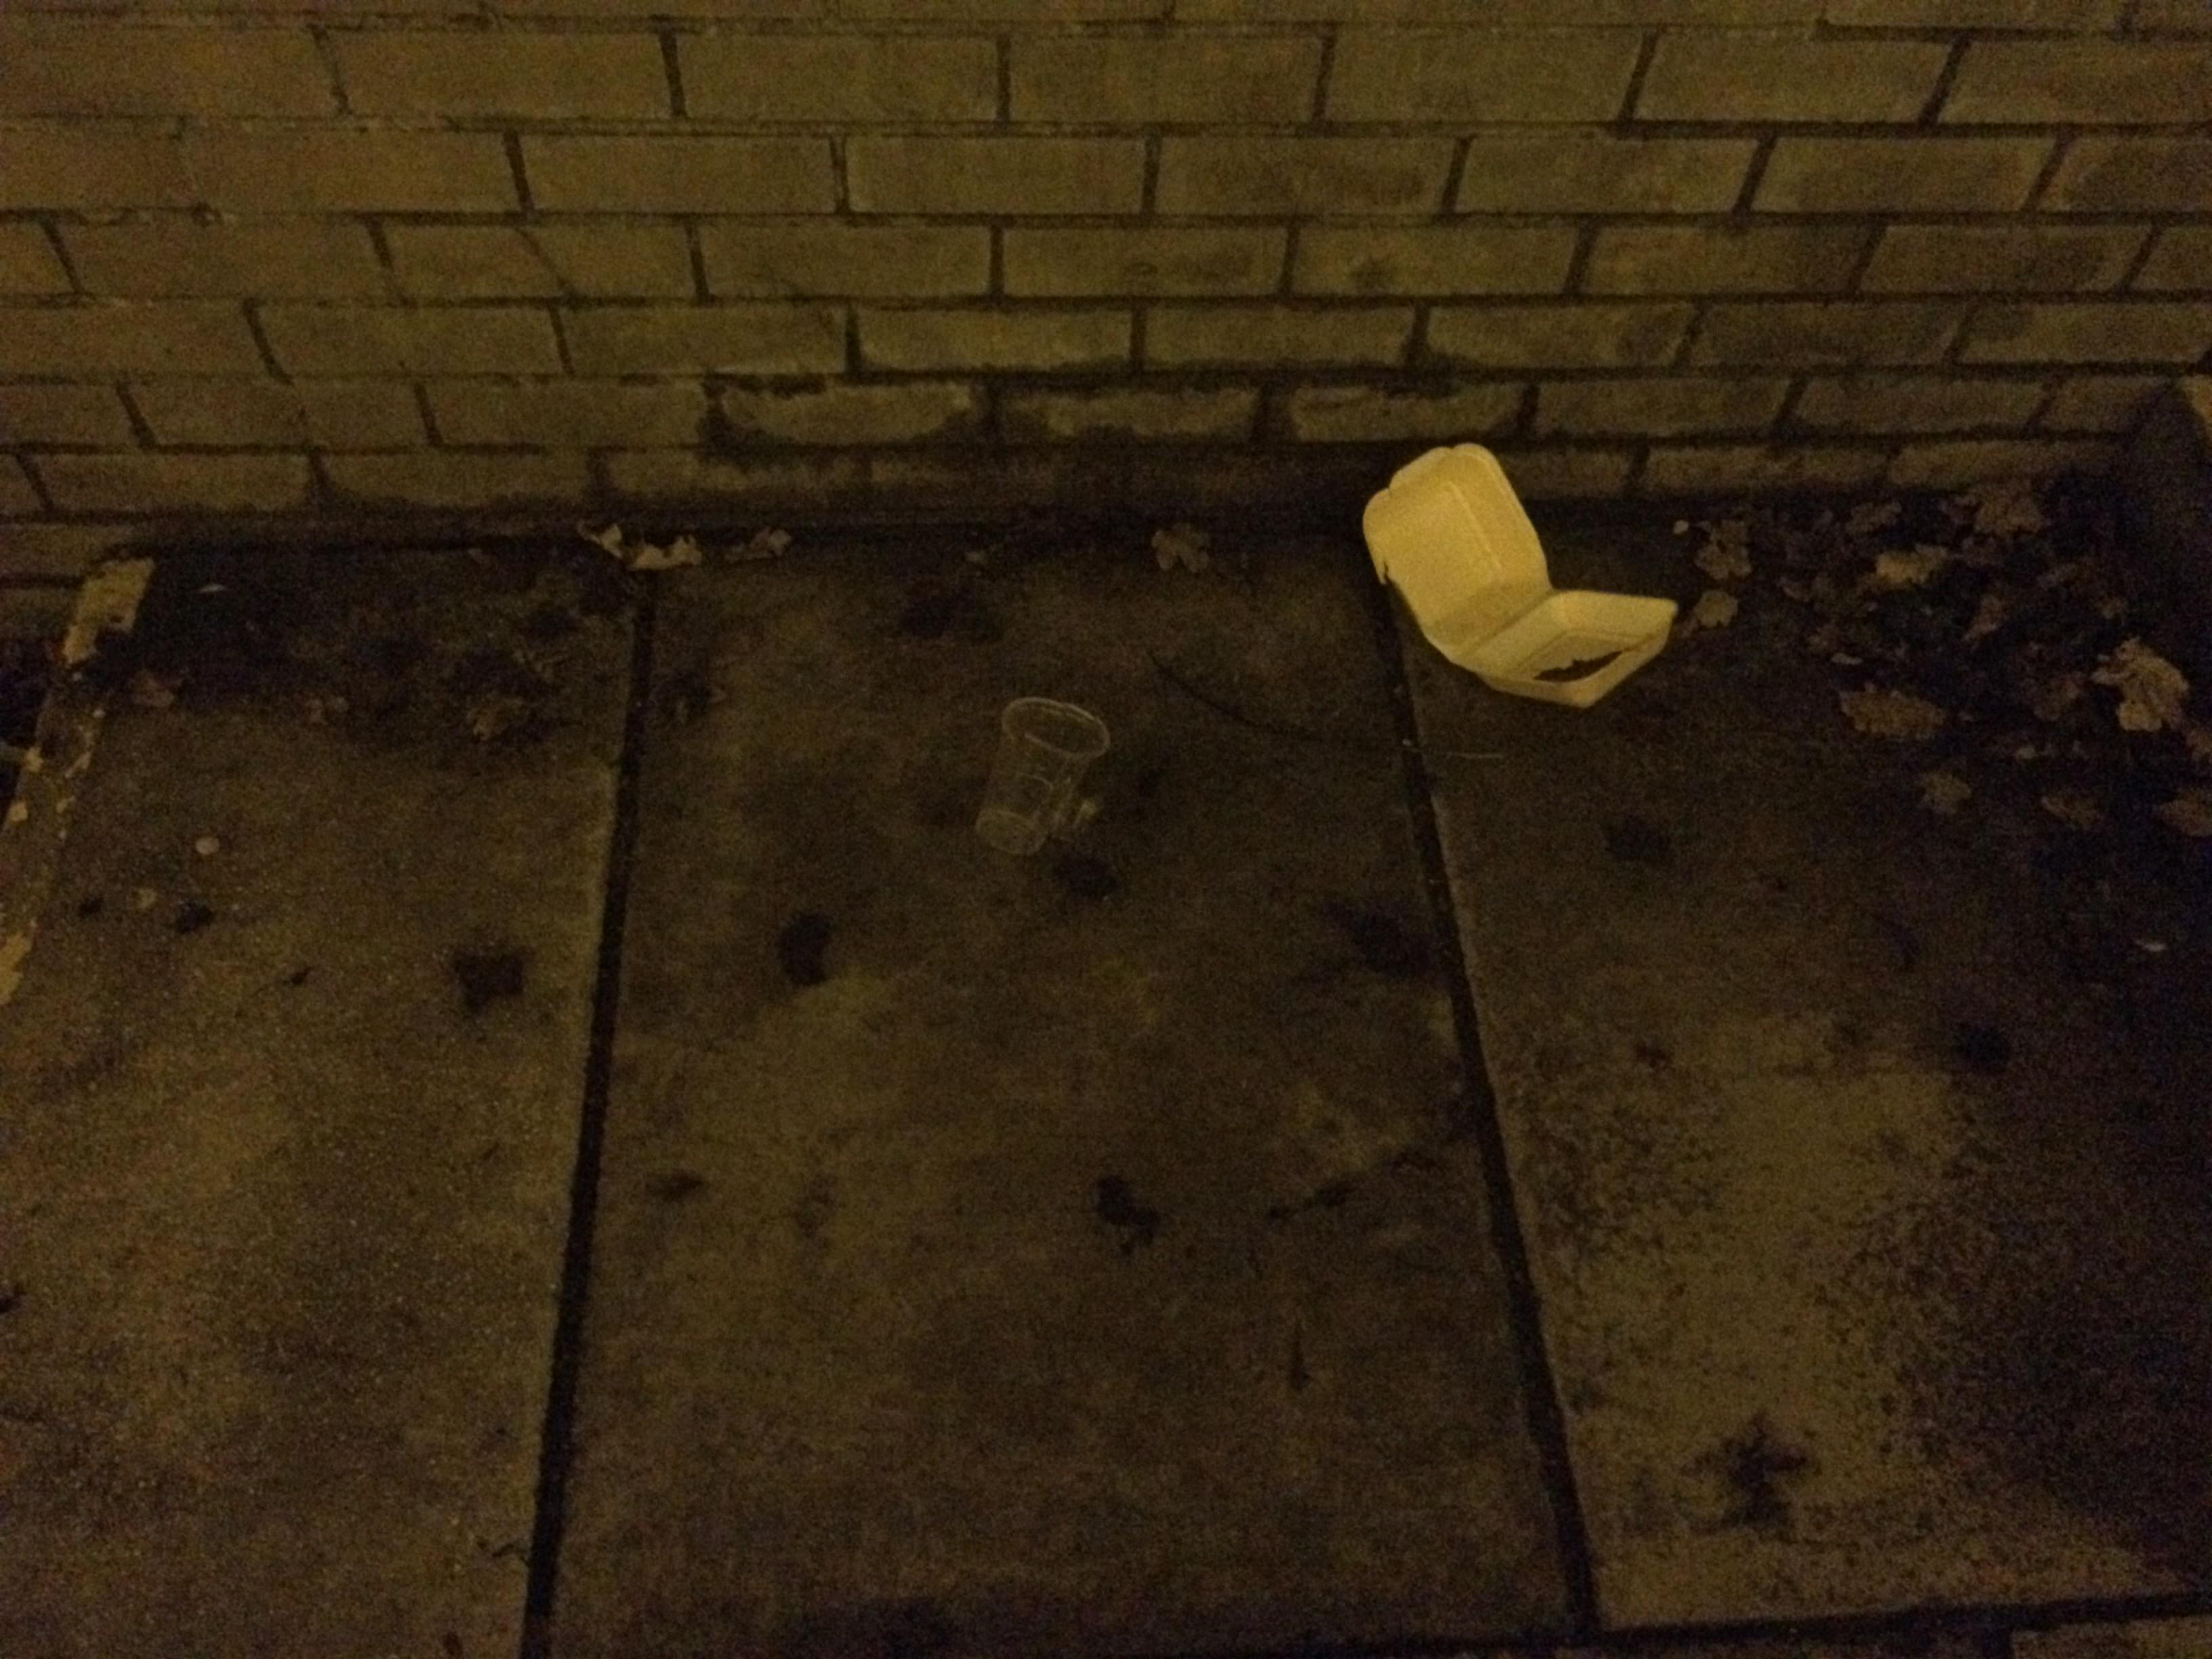Trash: (1359, 444, 1677, 711), (974, 688, 1108, 856)
